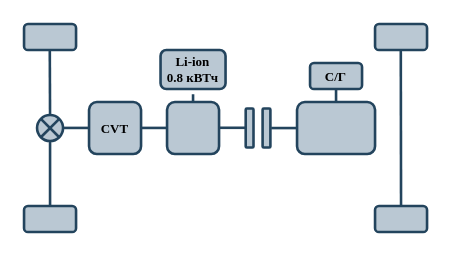
The diagram is 450 pixels wide and 255 high, and some of its shapes have lost their labels. Here are the shapes that lost their labels. From the top down, the centre of each, then its label:
At point (192, 127): "МГ 24 л.с".
At point (335, 127): "ДВС 1.8л 99 л.с.".
